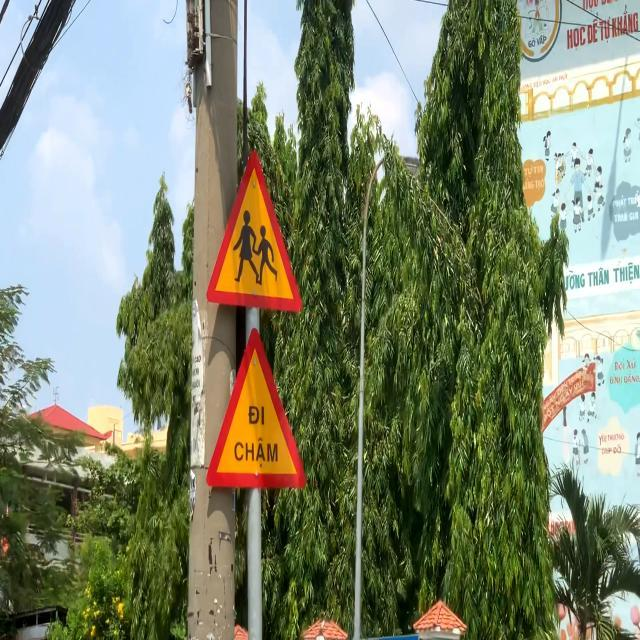Di cham: (205, 326, 308, 488)
Tre em: (204, 148, 304, 313)
